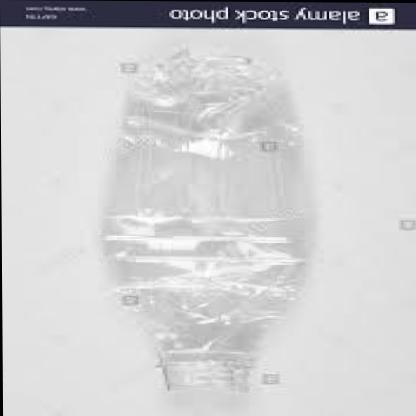trash: (102, 49, 304, 392)
